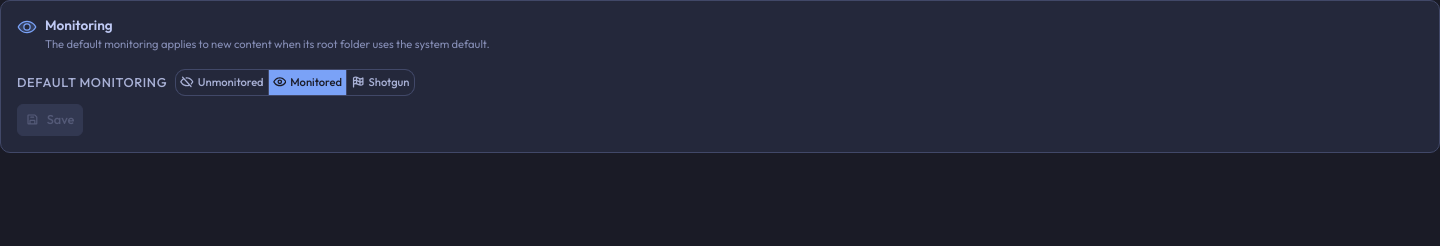
it: MonitoringDefaultPanel › Save_IsDisabled_WhenTheStoredModeIsChosenAgainAfterAMaxSpreadEdit (Monitored)
Click the radio button with aria-label "Shotgun:" at (380, 82), box [347,70,414,95]
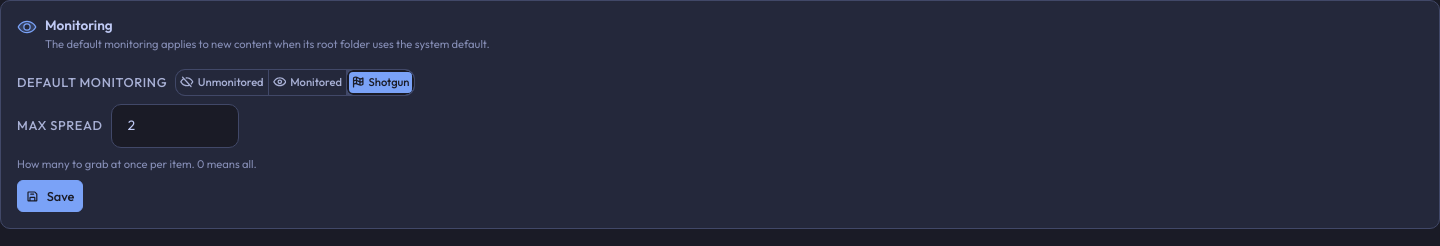
Replace the text in the number field labelled "Max spread" with "5" at (175, 126), box [112,107,238,144]
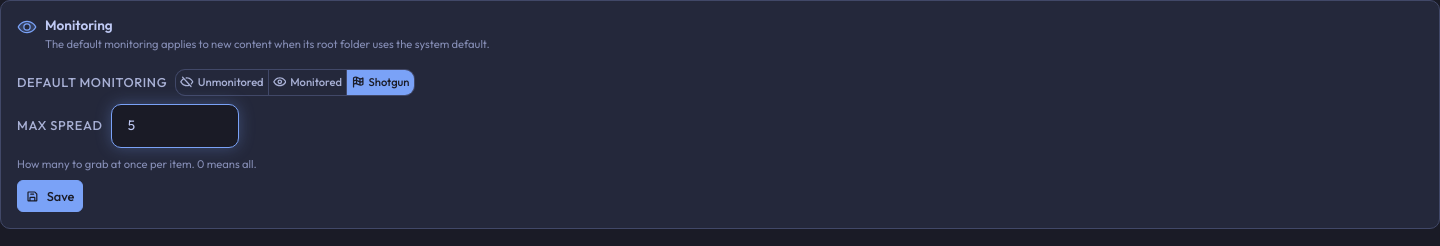
Click the radio button with aria-label "Monitored:" at (307, 82), box [269,70,346,95]
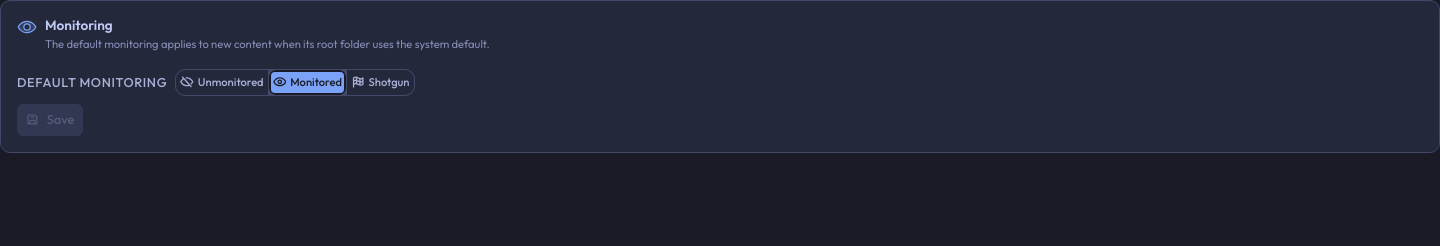
Now the button "Save" is disabled, box [17,104,83,136]
